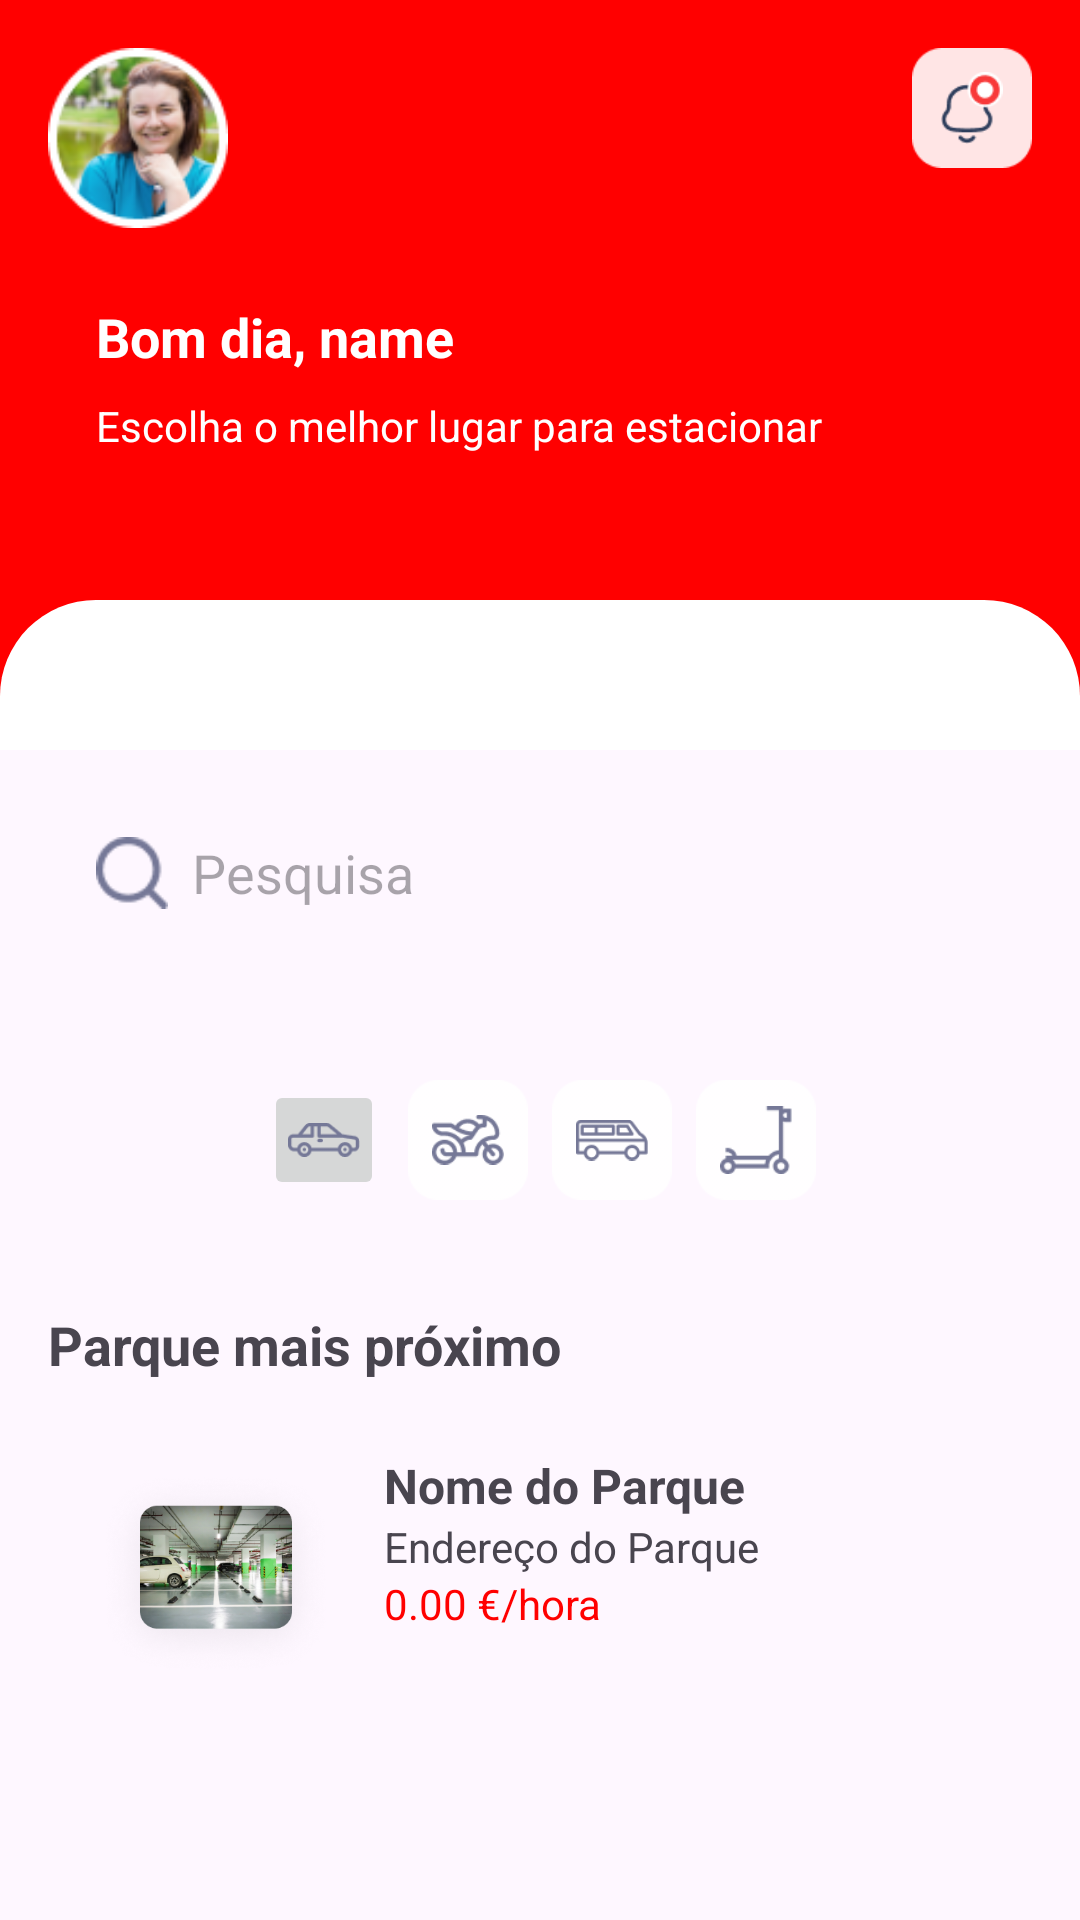

Point at icon controls on the screen. Image size 1080px x 1920px, points as point (x, y).
carro: point (324, 1140)
foto perfil: point (138, 138)
lupa: point (132, 873)
mota: point (468, 1140)
scotter: point (756, 1140)
sino: point (972, 108)
van: point (612, 1140)
